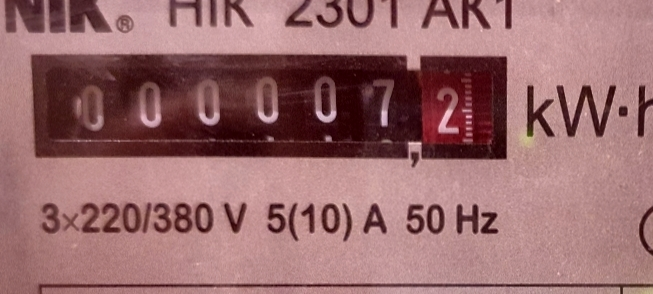0: (131, 76, 166, 128), (307, 72, 340, 125), (191, 73, 222, 126), (249, 71, 280, 124), (74, 80, 106, 131)
2: (431, 84, 461, 135)
7: (366, 73, 396, 128)
screen: (11, 34, 526, 178)
